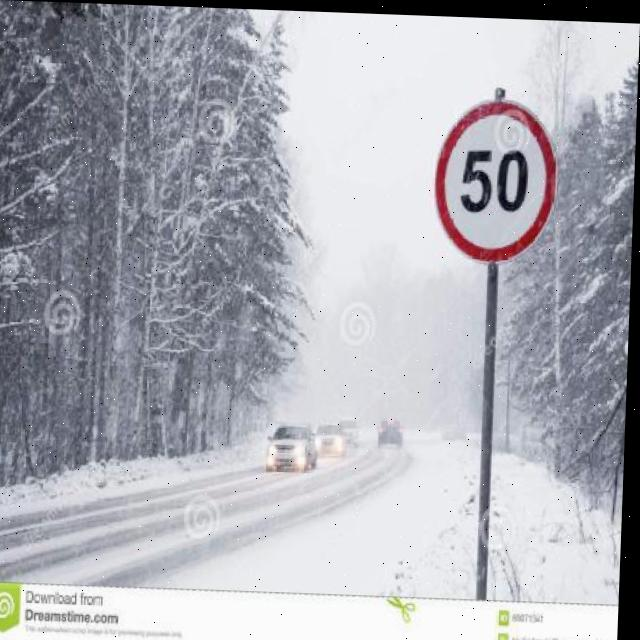Speed limit 50: (429, 87, 563, 264)
